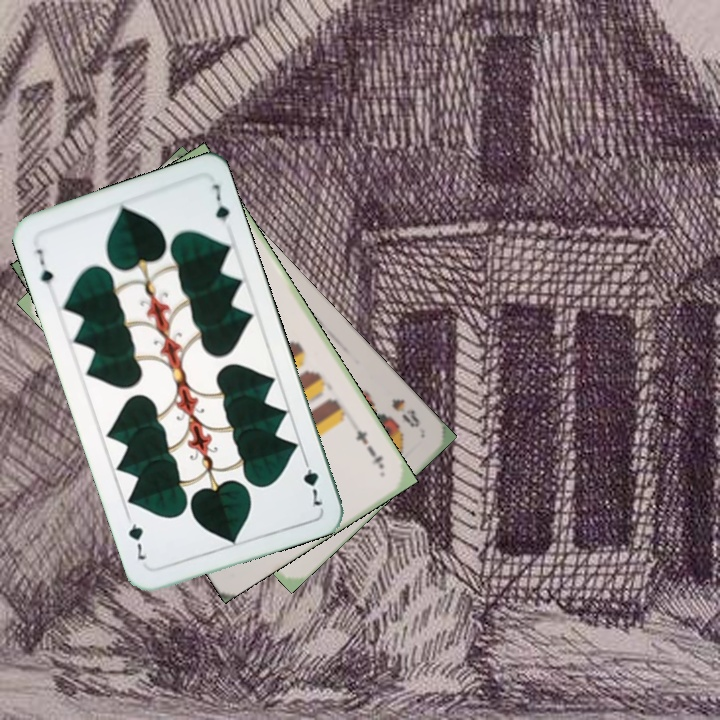E7: (351, 425, 387, 472)
G7: (299, 452, 325, 510), (32, 245, 56, 288)
S8: (387, 394, 423, 431)
